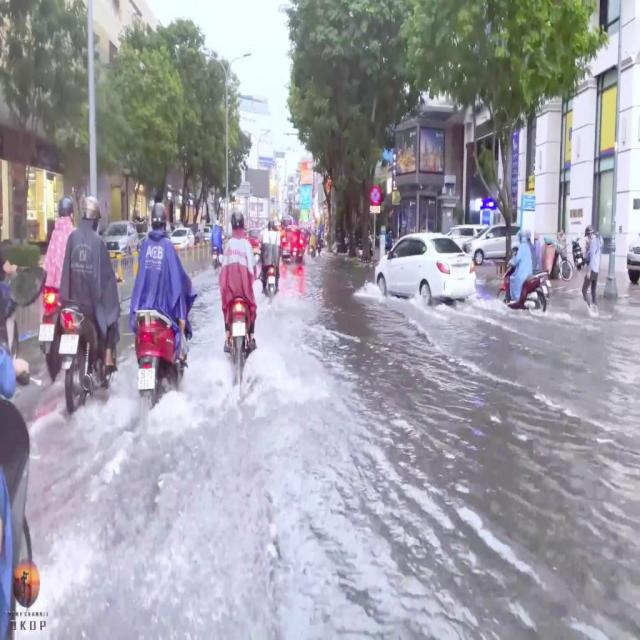cam_dung_xe_va_do_xe: (370, 188, 381, 204)
khac: (369, 206, 380, 212)
